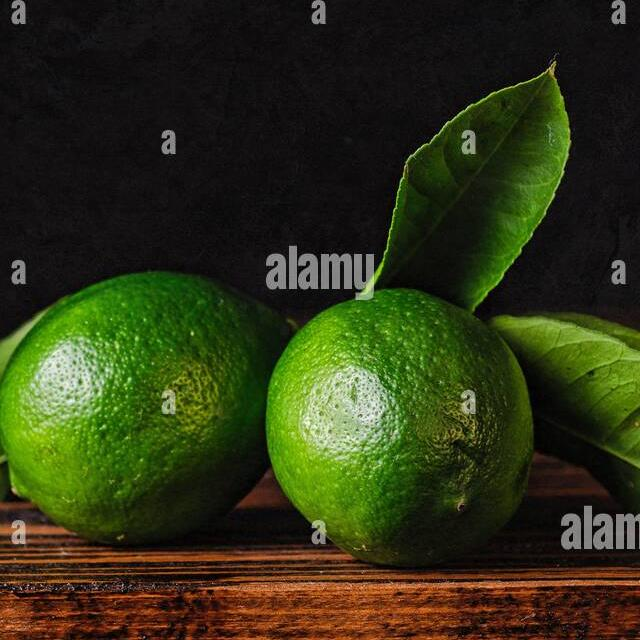lime: (249, 262, 555, 580), (0, 249, 288, 551)
